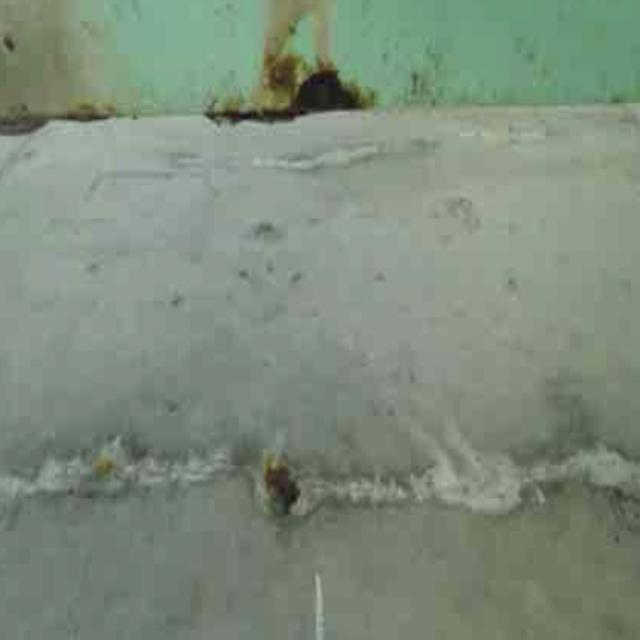corrosion: (228, 32, 388, 134)
freelime: (7, 418, 640, 518)
